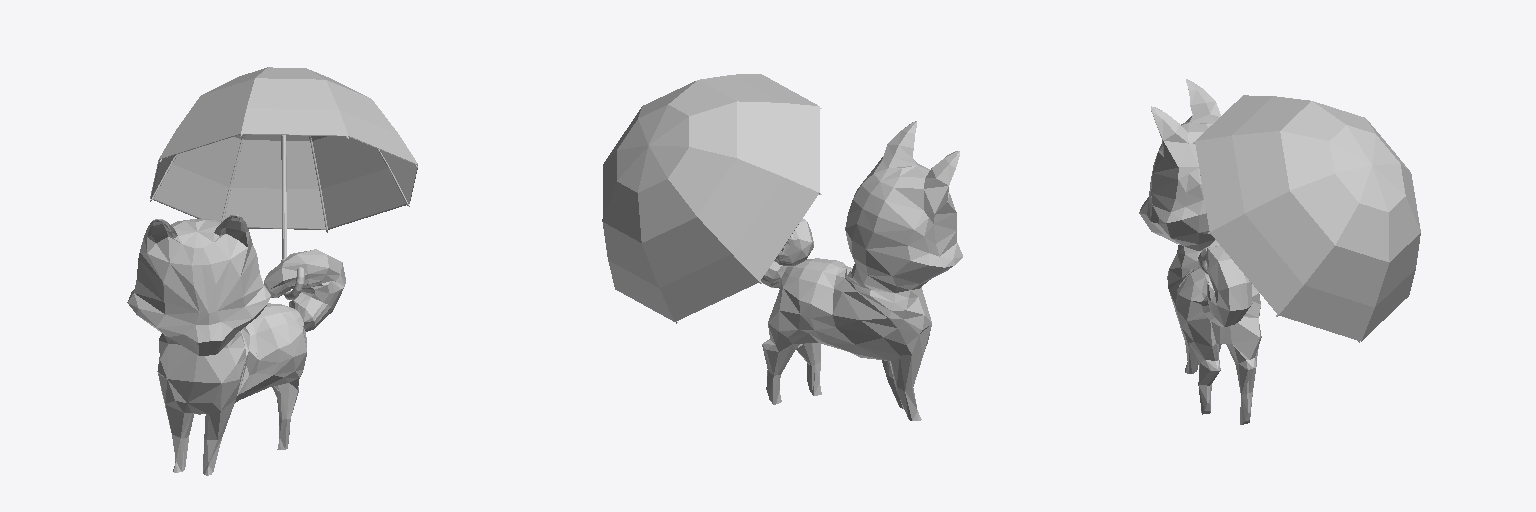
Rendered from umbrella_Frame48.obj.
3 renders of one model, left to right at view 1: azimuth 30°, elevation 25°; view 2: azimuth 150°, elevation 25°; view 3: azimuth 270°, elevation 25°, orthographic.
Visible parts, largest first — view 1: polySurface4, newRigging:BodzL1; view 2: polySurface4, newRigging:BodzL1; view 3: polySurface4, newRigging:BodzL1.
Boxes of the visible parts, x1=… form: polySurface4: x1=150, y1=67, x2=417, y2=299; newRigging:BodzL1: x1=127, y1=215, x2=345, y2=475; polySurface4: x1=602, y1=74, x2=821, y2=323; newRigging:BodzL1: x1=761, y1=121, x2=962, y2=420; polySurface4: x1=1193, y1=95, x2=1420, y2=342; newRigging:BodzL1: x1=1139, y1=79, x2=1261, y2=424.
Bounding box in the file's own units: 9.53 × 9.66 × 7.6.